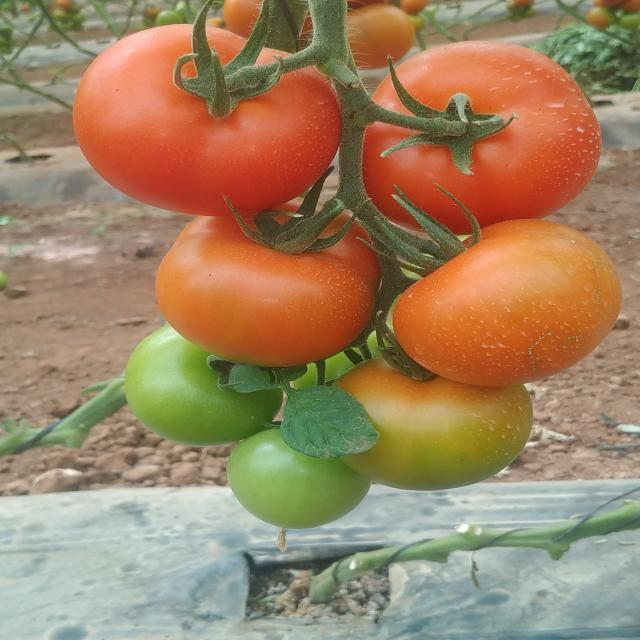Ripe Tomato: (66, 23, 352, 211), (368, 39, 586, 222), (384, 223, 616, 373), (152, 218, 372, 370)
Unripe Tomato: (316, 360, 550, 486), (114, 340, 286, 456), (227, 426, 368, 524)
